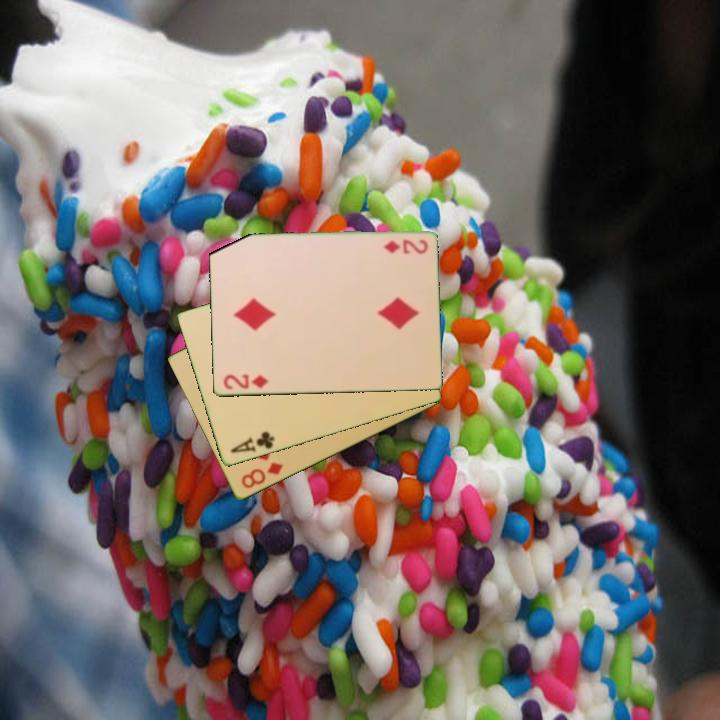2d: (220, 371, 271, 392), (380, 236, 430, 256)
8d: (237, 459, 286, 492)
Ac: (227, 428, 277, 456)
